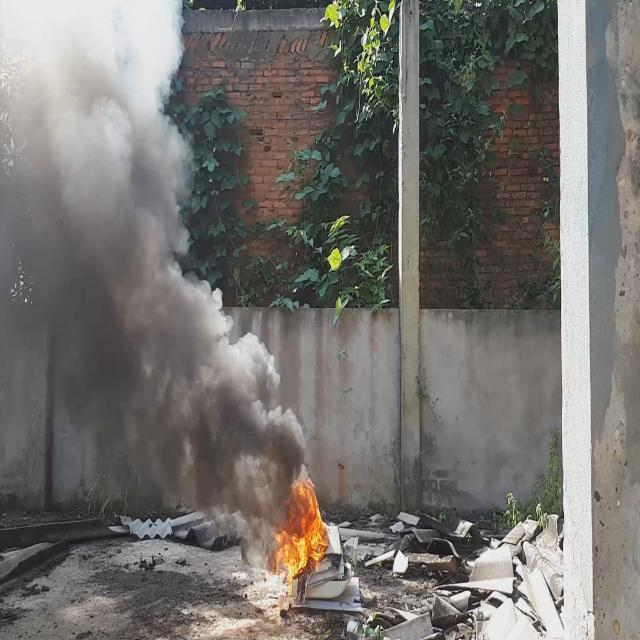Fire: (272, 468, 331, 588)
Smoke: (0, 0, 306, 535)
